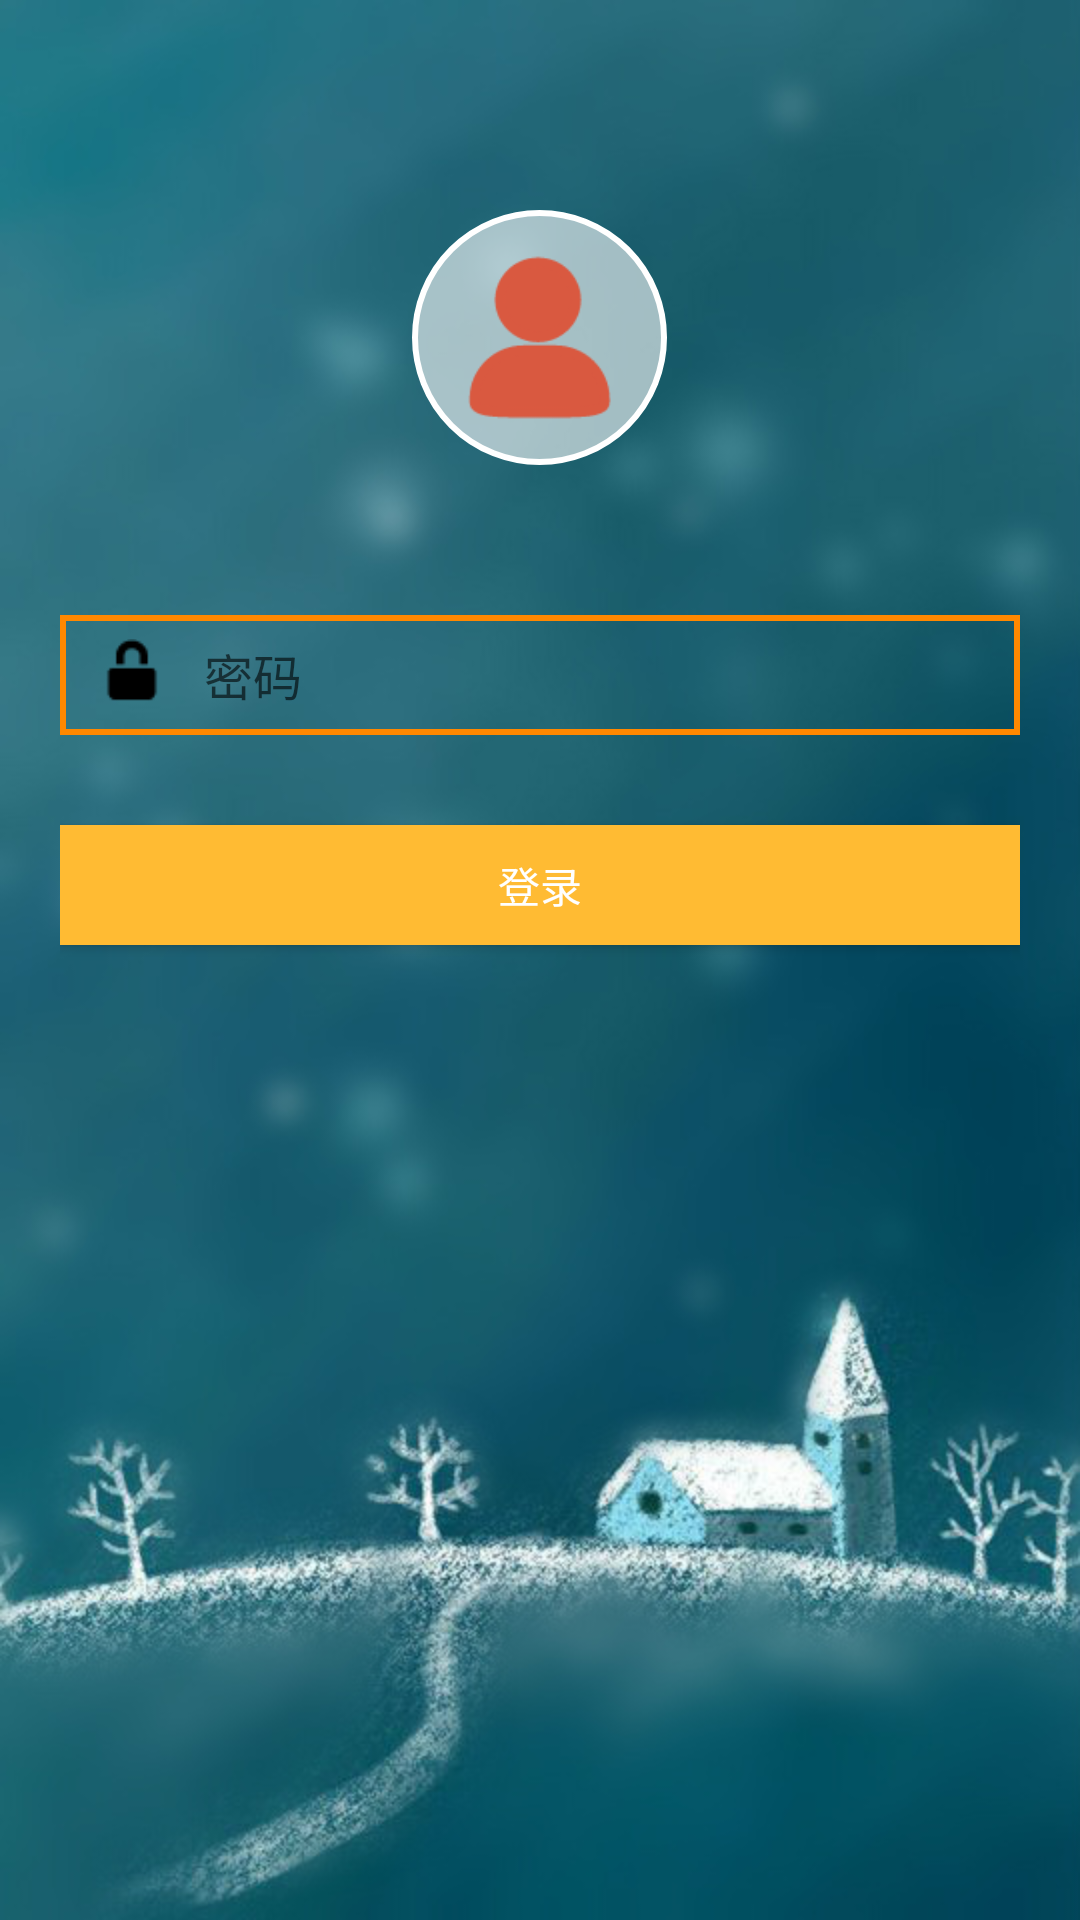

Point at icon controls on the screen. Image size 1080×1920, points as [x,y].
head: [539,337]
passwd: [132,669]
